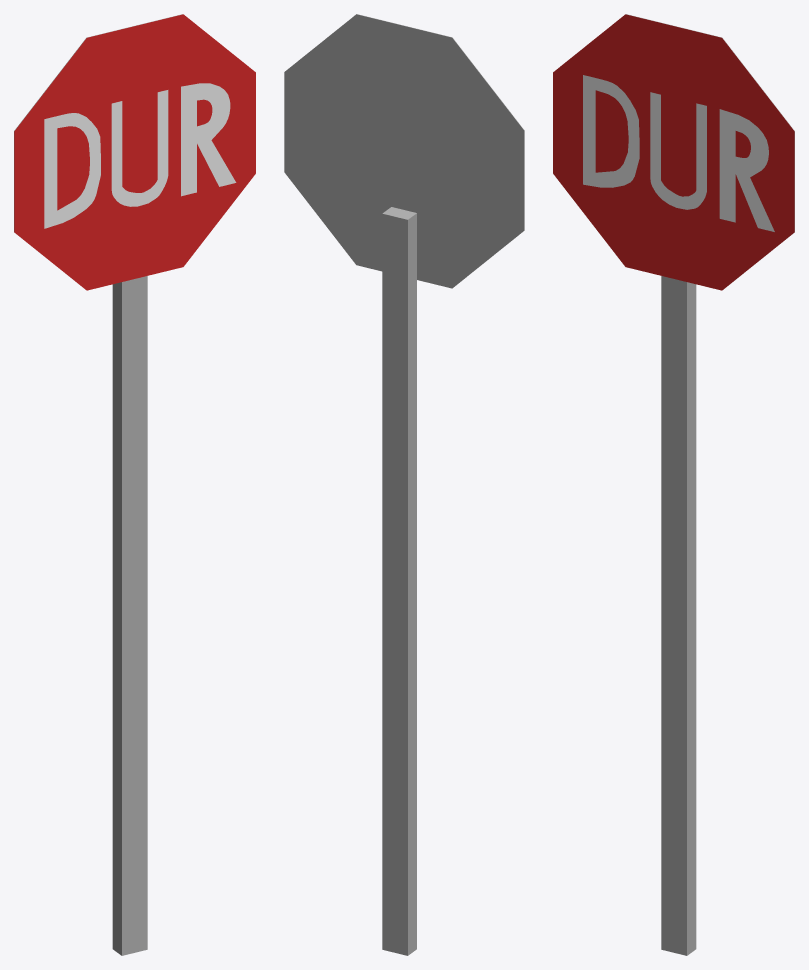
File: dur.DAE
3 renders of one model, left to right at view 1: azimuth 30°, elevation 25°; view 2: azimuth 150°, elevation 25°; view 3: azimuth 330°, elevation 25°, orthographic.
Visible parts, largest first — view 1: dur; view 2: dur; view 3: dur.
Part boxes in pixels (box(x1,y1,x2,y2)): dur: box(14, 14, 255, 955); dur: box(284, 14, 524, 955); dur: box(553, 14, 794, 955).
Bounding box in the file's own units: 29.53 × 108 × 2.05.
